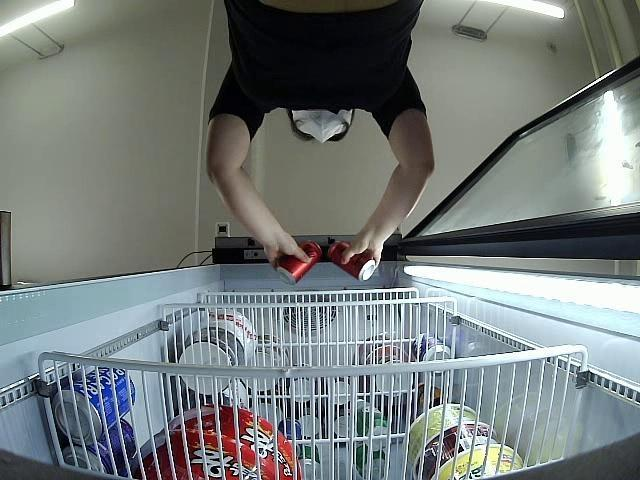11_cocaColaZero: (328, 240, 376, 281), (279, 237, 320, 283)
